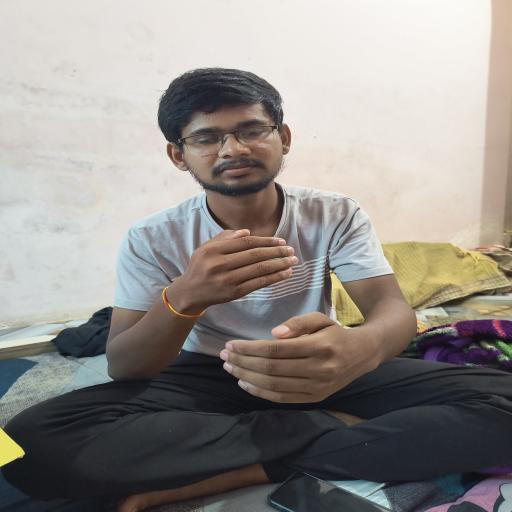Good: (148, 220, 388, 420)
